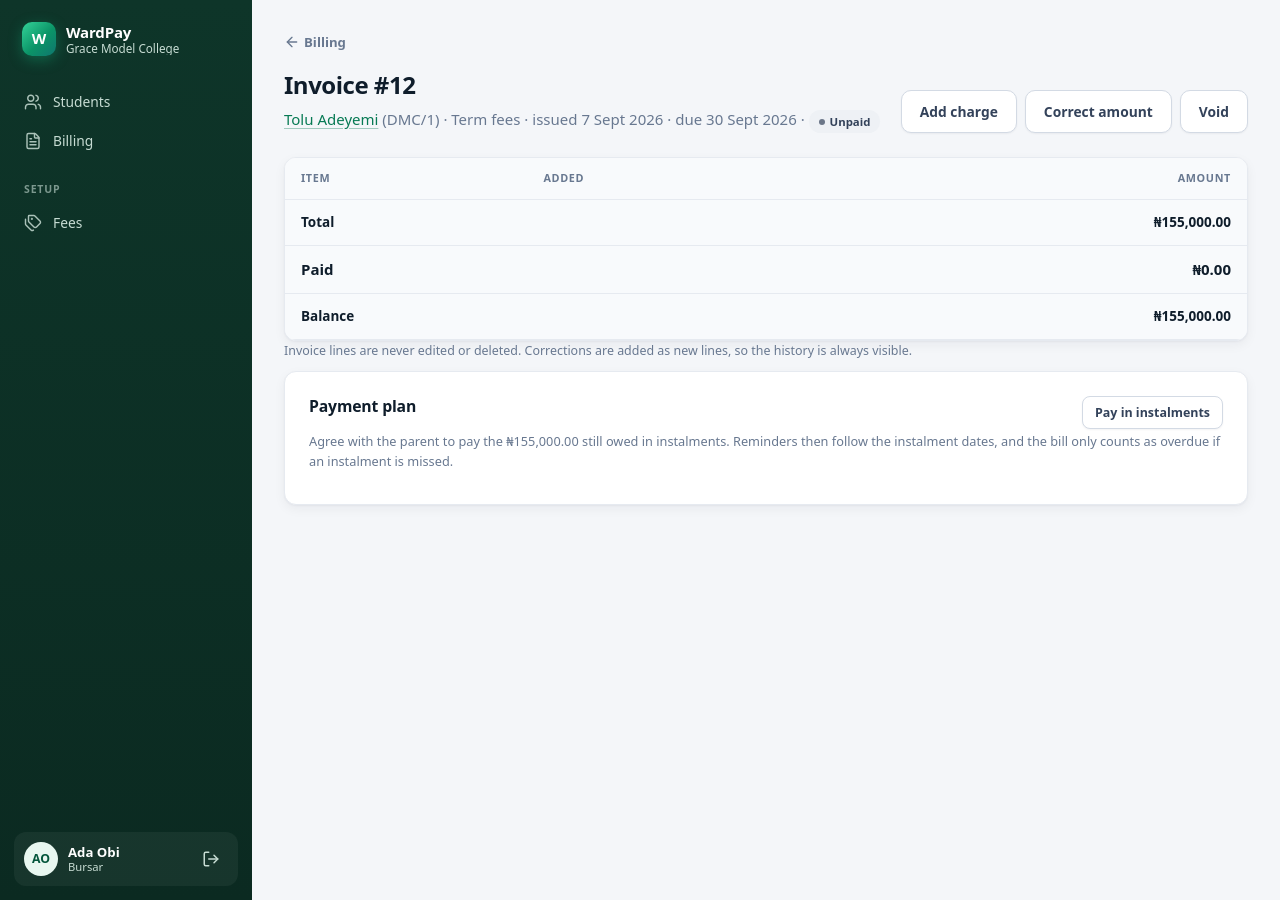
Test: payment plan on a bill › agrees a plan from an even split and shows the schedule
Click the button "Pay in instalments": click(1152, 413) top-left (1082, 396), bottom-right (1223, 430)
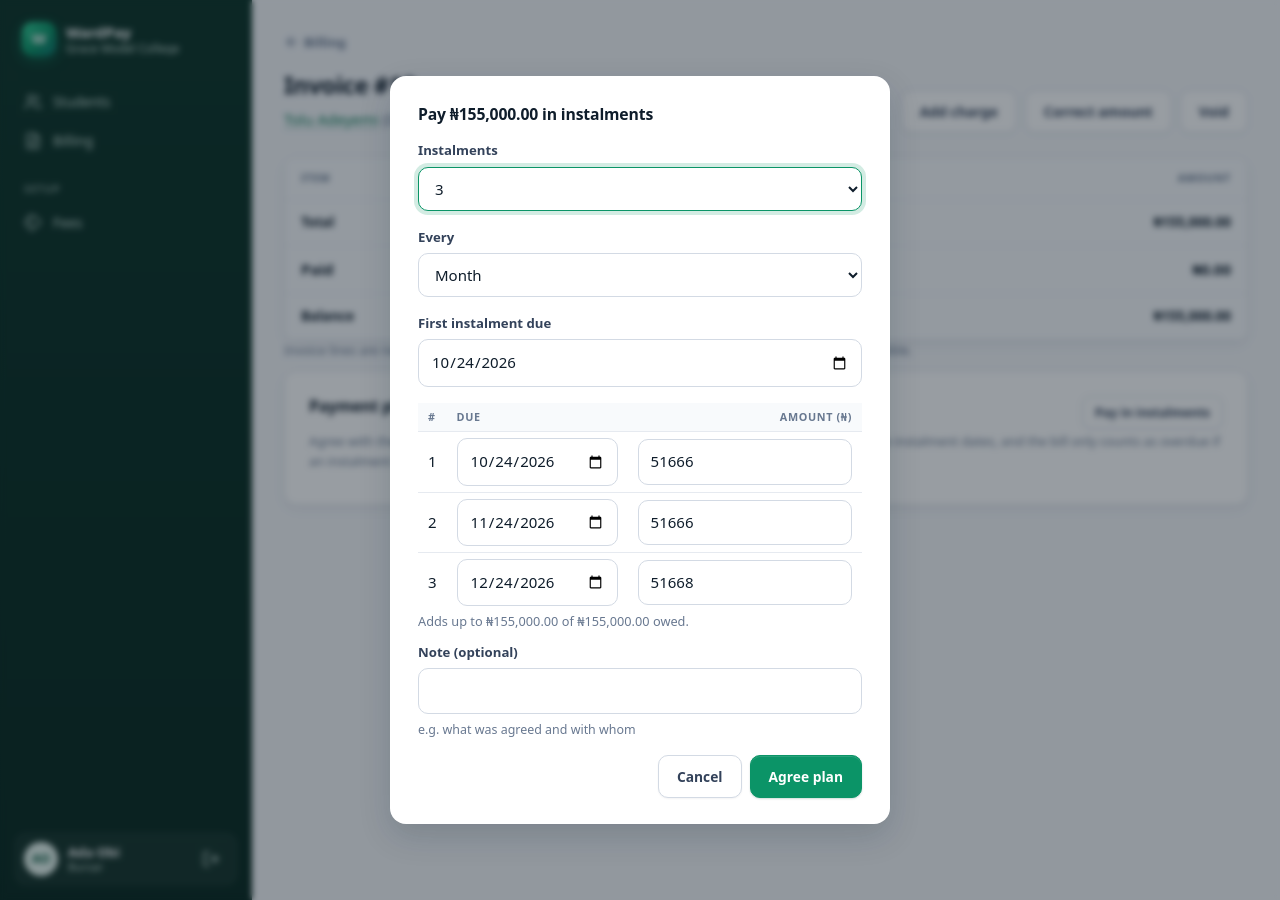
expect the text "Adds up to ₦155,000.00 of ₦155,000.00 owed." is shown: met, box top-left (418, 612), bottom-right (689, 630)
Select "2" in the dropdown labelled "Instalments": (640, 188) top-left (418, 166), bottom-right (862, 210)
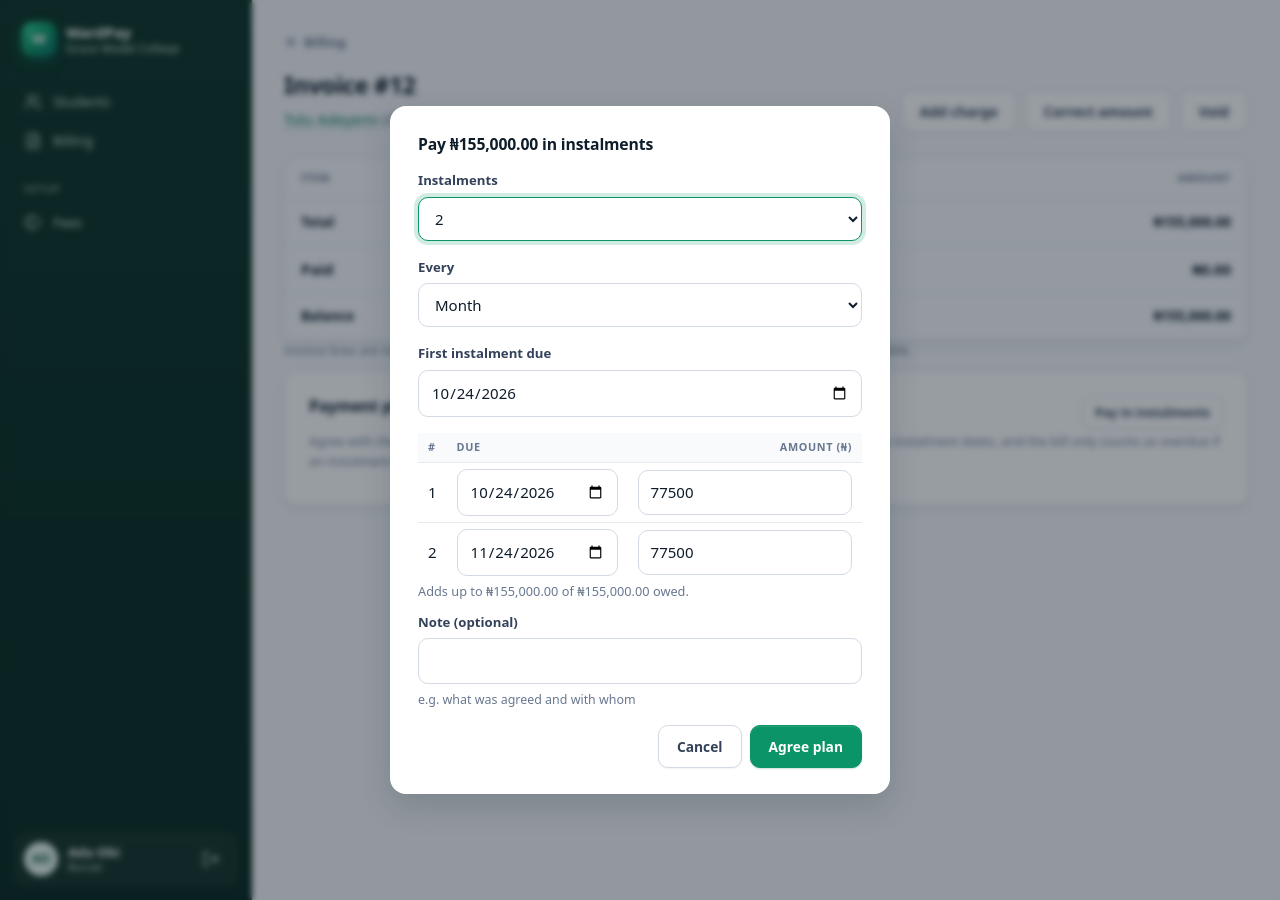
expect the field named "Instalment 2 amount" holds "77500": met
Note: Break the total: the button is disabled until it adds up again
Replace the text in the field named "Instalment 2 amount" with "70000": (745, 552) top-left (638, 530), bottom-right (852, 575)
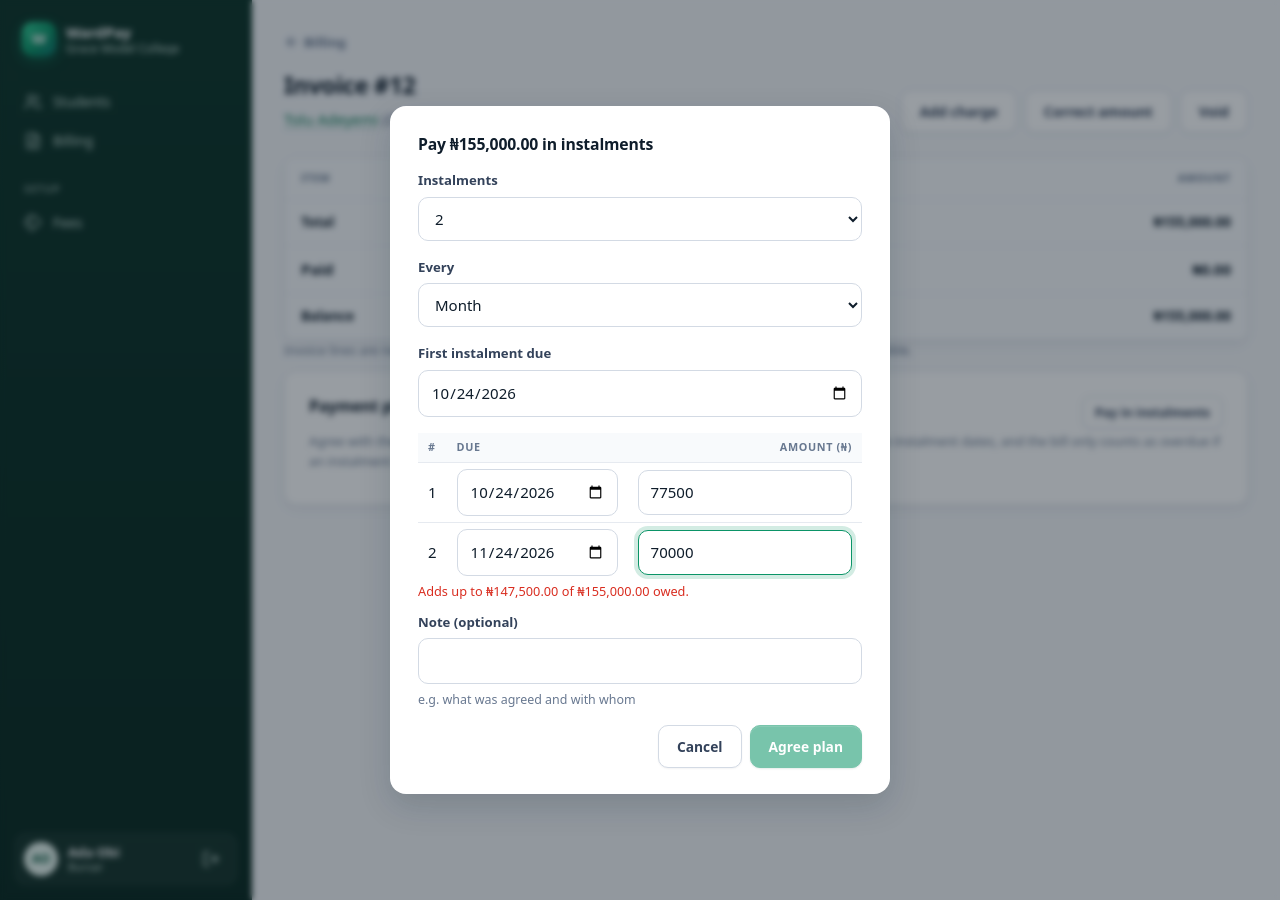
expect the button "Agree plan" is disabled: met, box top-left (750, 725), bottom-right (862, 768)
Replace the text in the field named "Instalment 2 amount" with "77500": (745, 552) top-left (638, 530), bottom-right (852, 575)
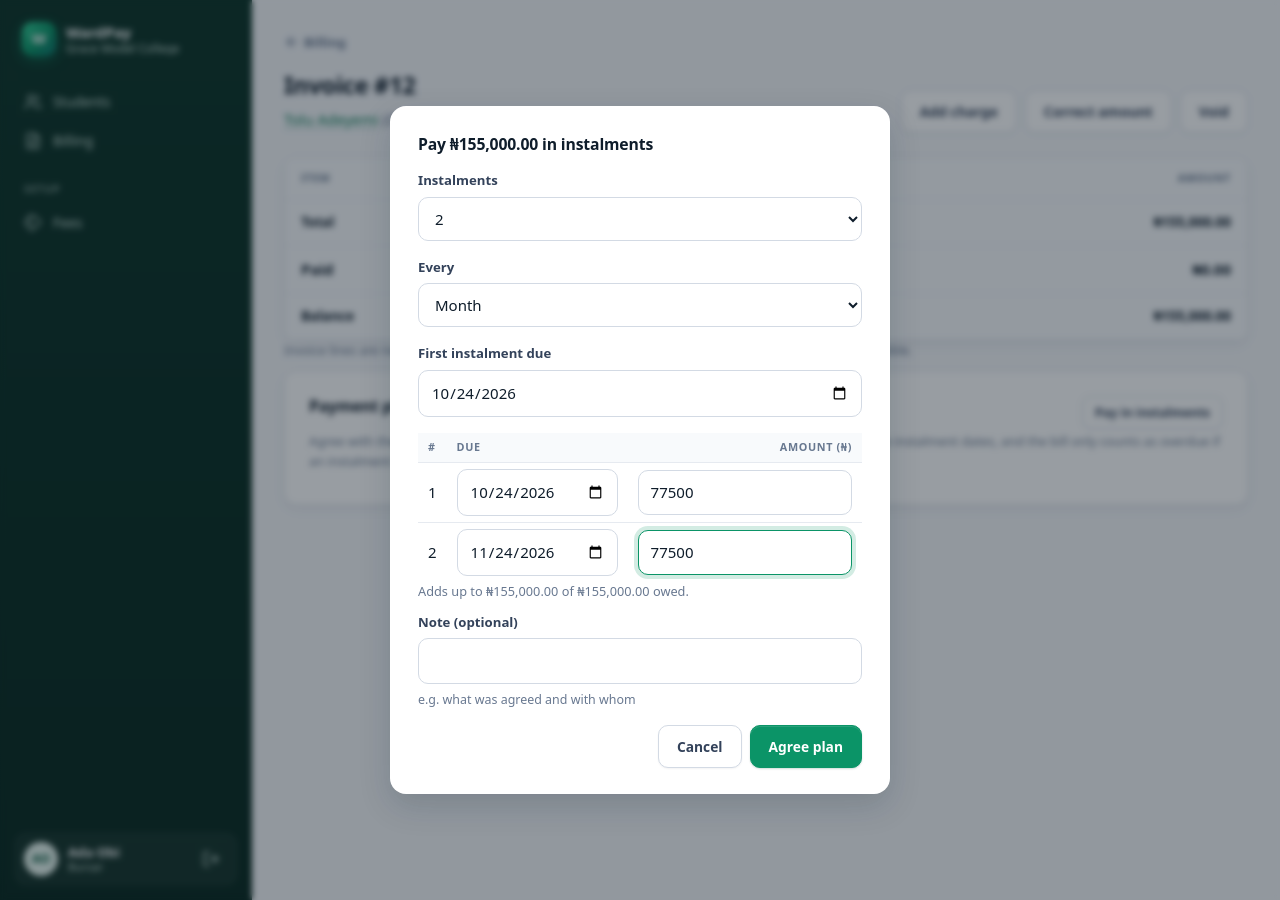
Click the button "Agree plan": click(806, 746) top-left (750, 725), bottom-right (862, 768)
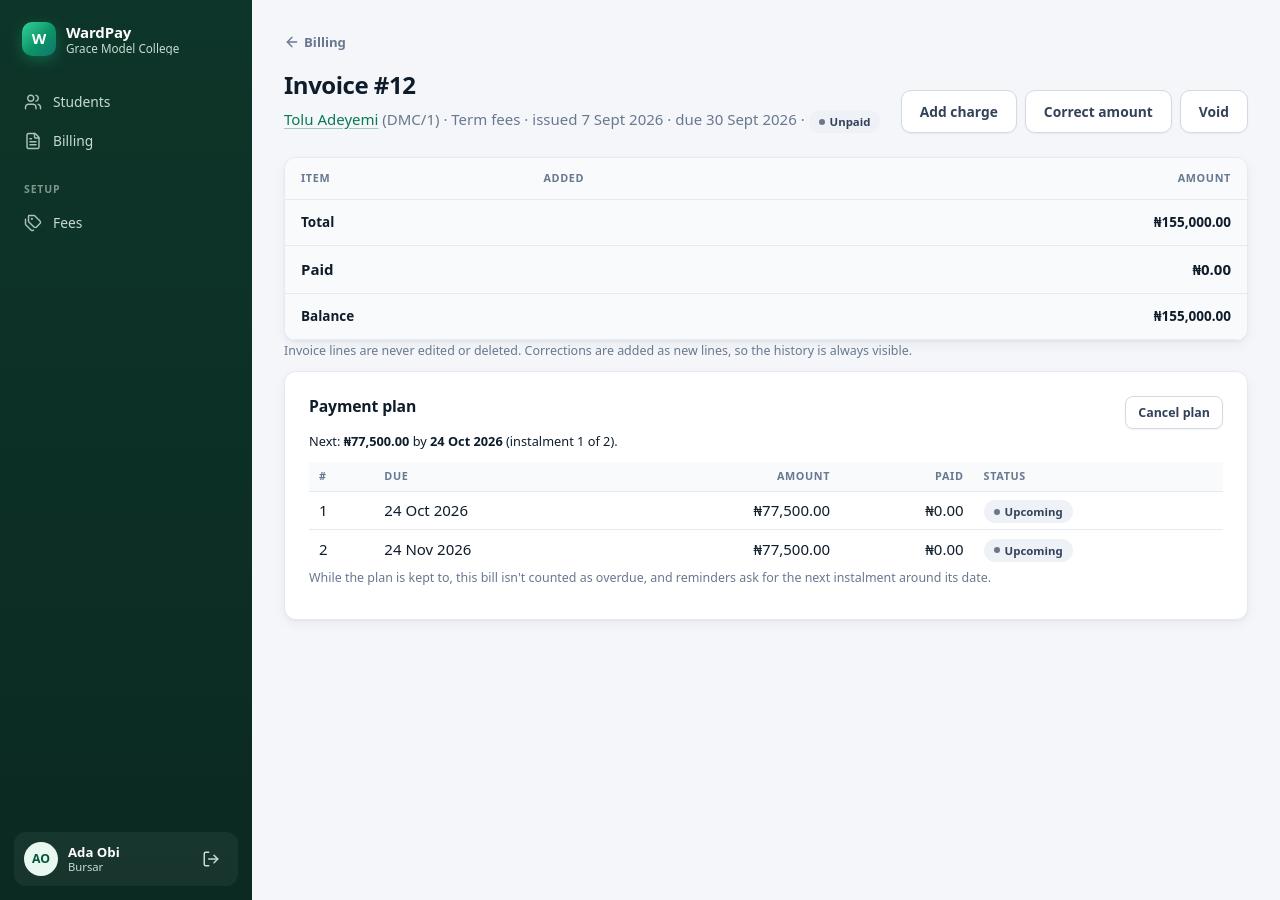
expect the text "Next: ₦77,500.00 by 24 Oct 2026 (instalment 1 of 2)." is shown: met, box top-left (309, 432), bottom-right (618, 450)
